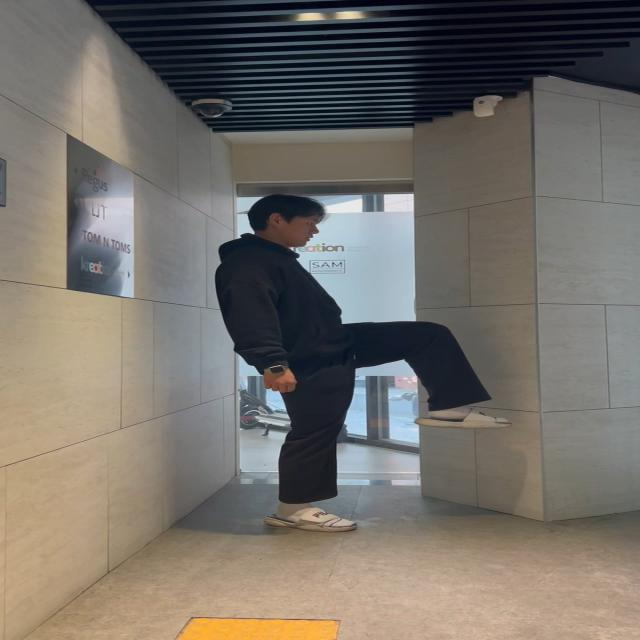knee: (341, 307, 511, 429)
